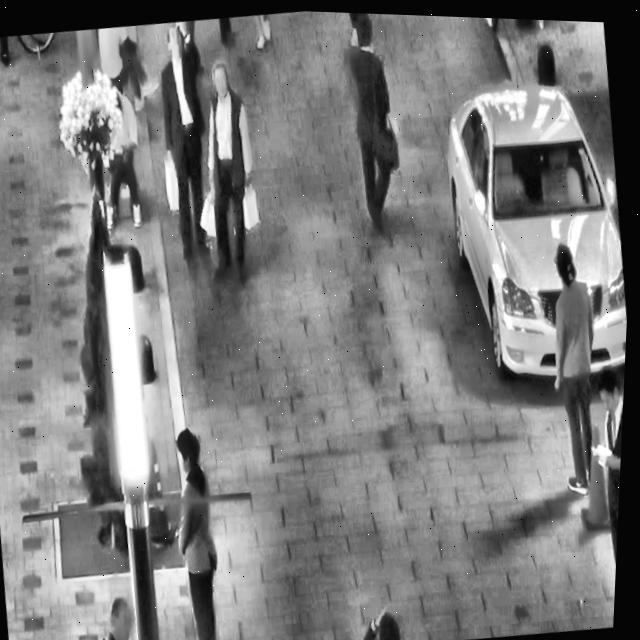light_vehicle: (423, 49, 639, 394)
